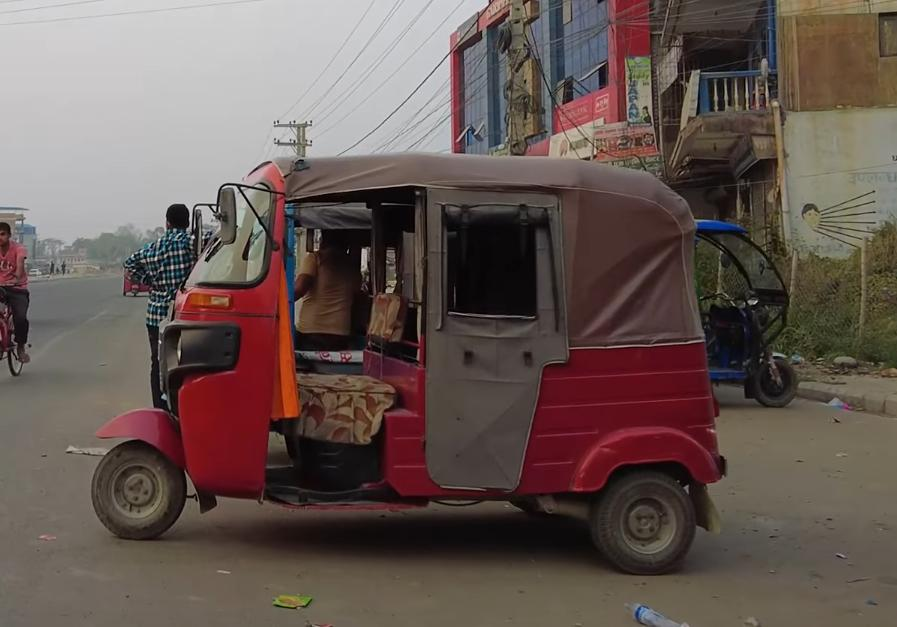auto_rickshaw: (88, 136, 732, 585)
